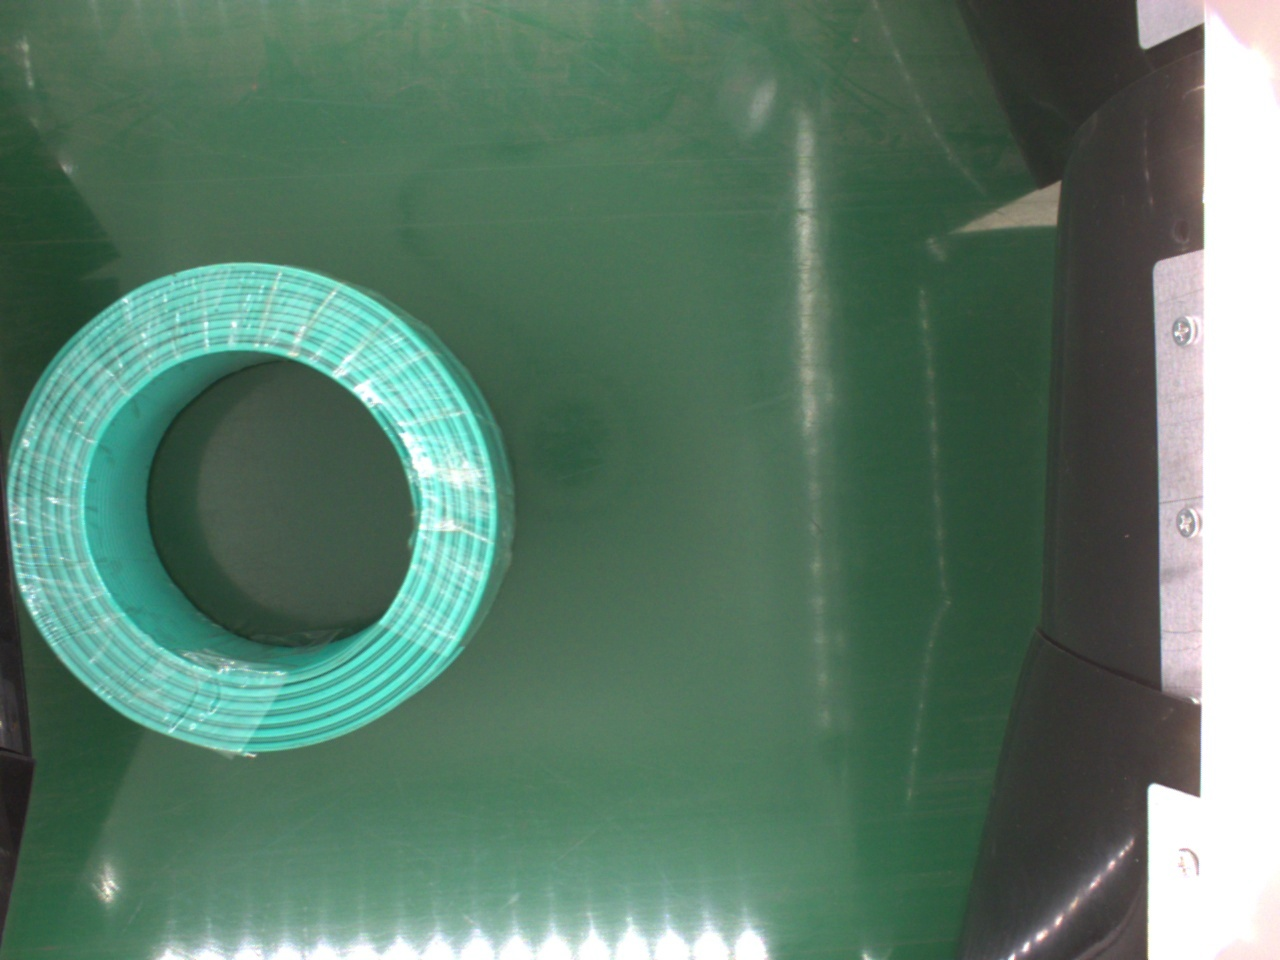green: (16, 262, 517, 763)
